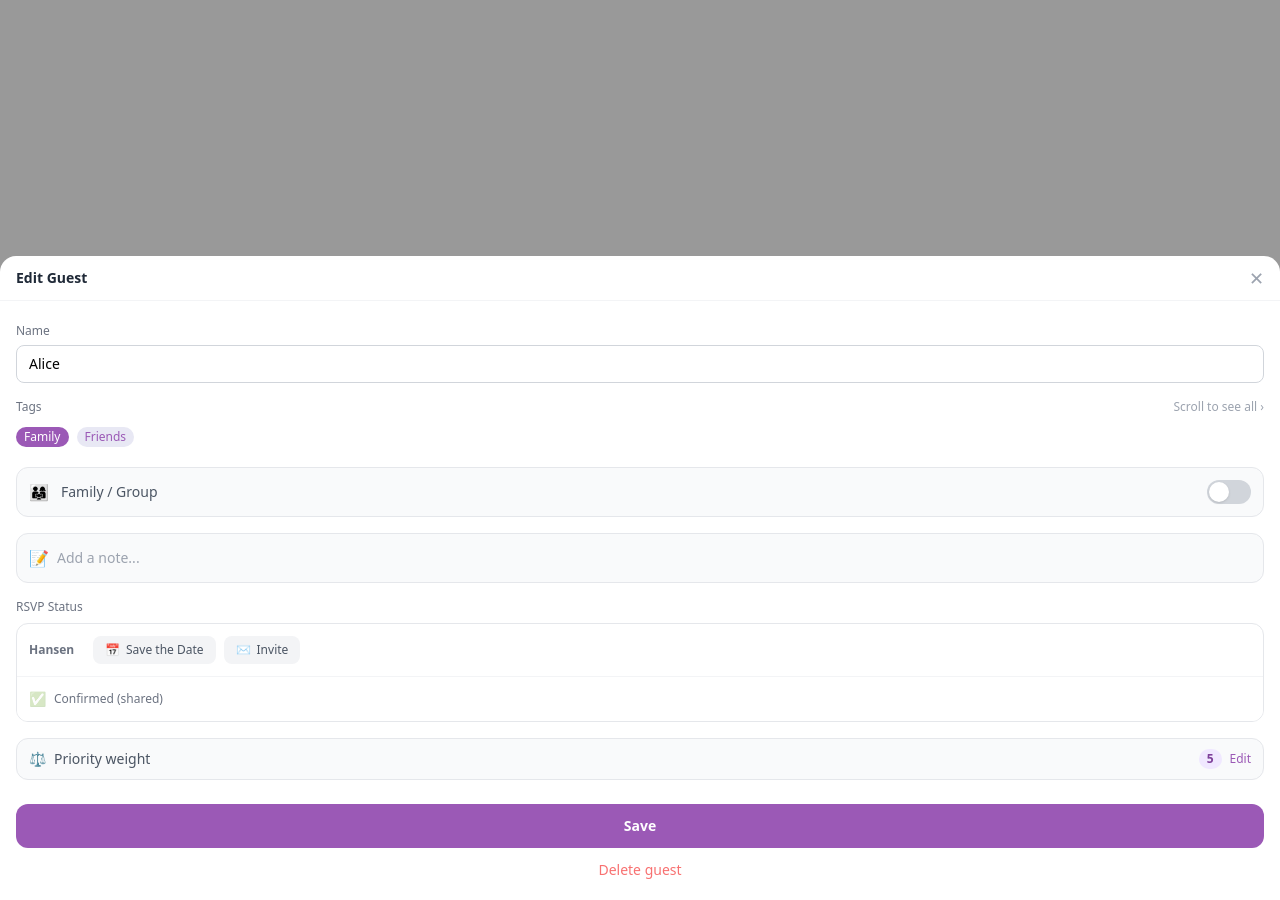
Test: GuestEditSheet › shows adult/kid steppers when Family / Group is toggled on
Note: The toggle button renders the Family/Group row
Click the text "Family / Group".
click(109, 492)  # box [61, 482, 158, 501]
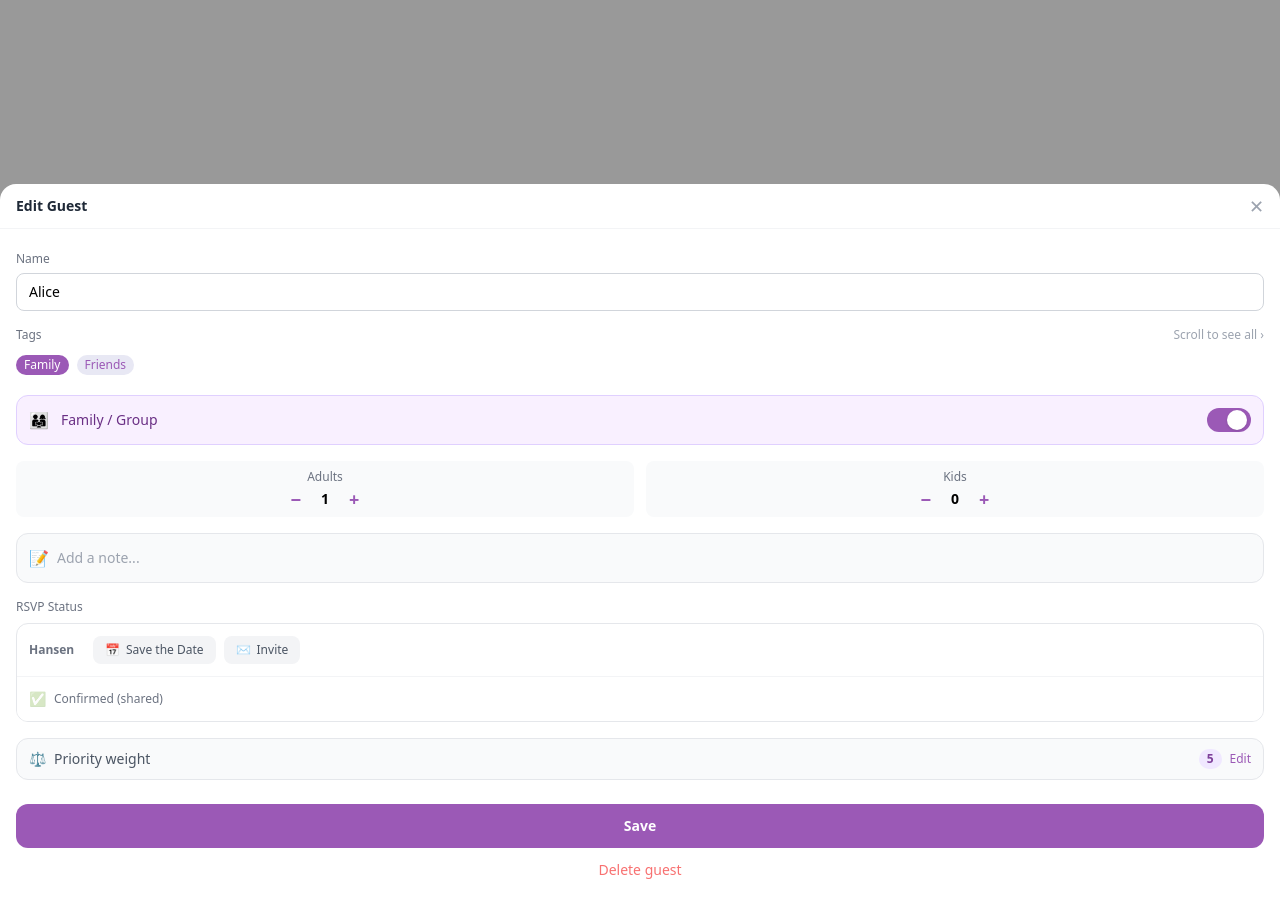
Result: the text "Adults" is shown at [307, 468, 343, 485]
Result: the text "Kids" is shown at [943, 468, 967, 485]
